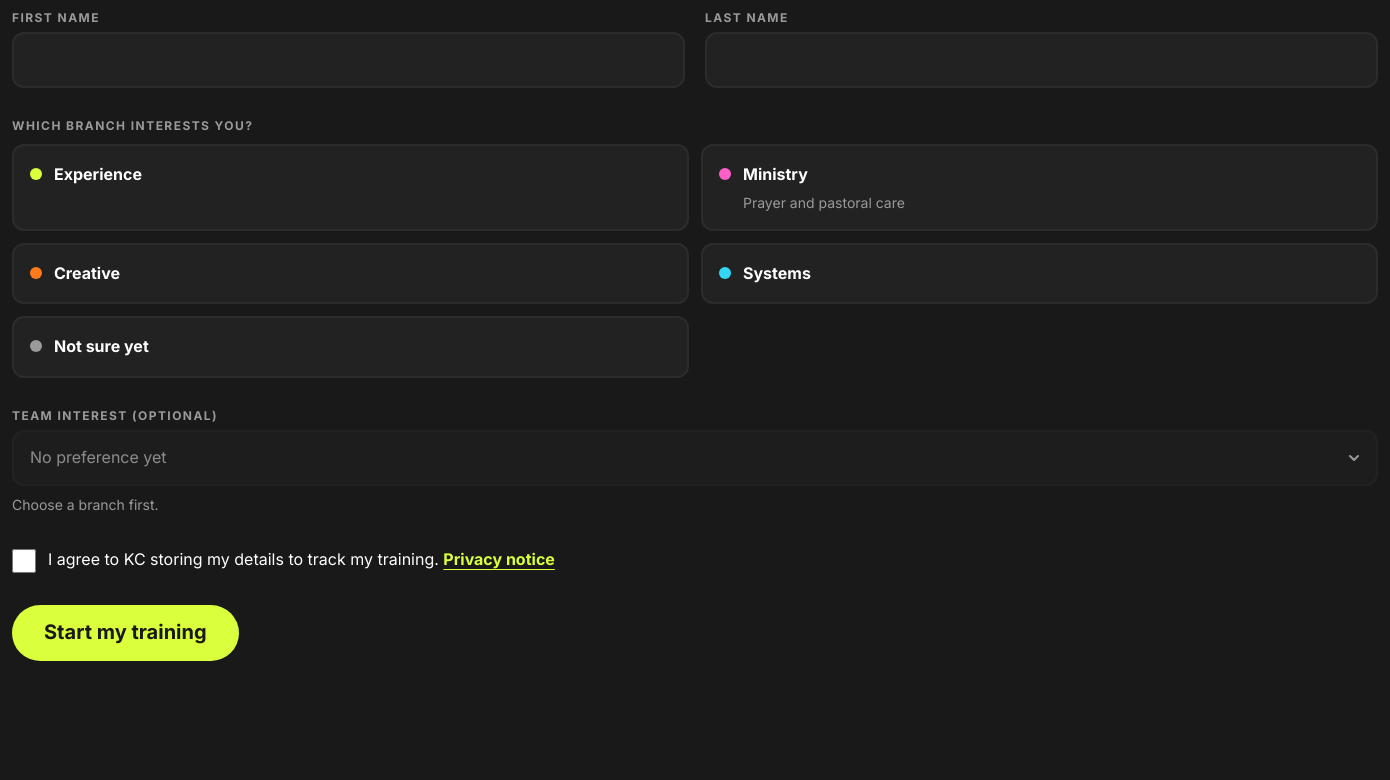
Test: OnboardingForm › lists only active teams for the chosen branch
Click the radio button labelled "Experience". click: (98, 174)
box: [12,144,689,231]
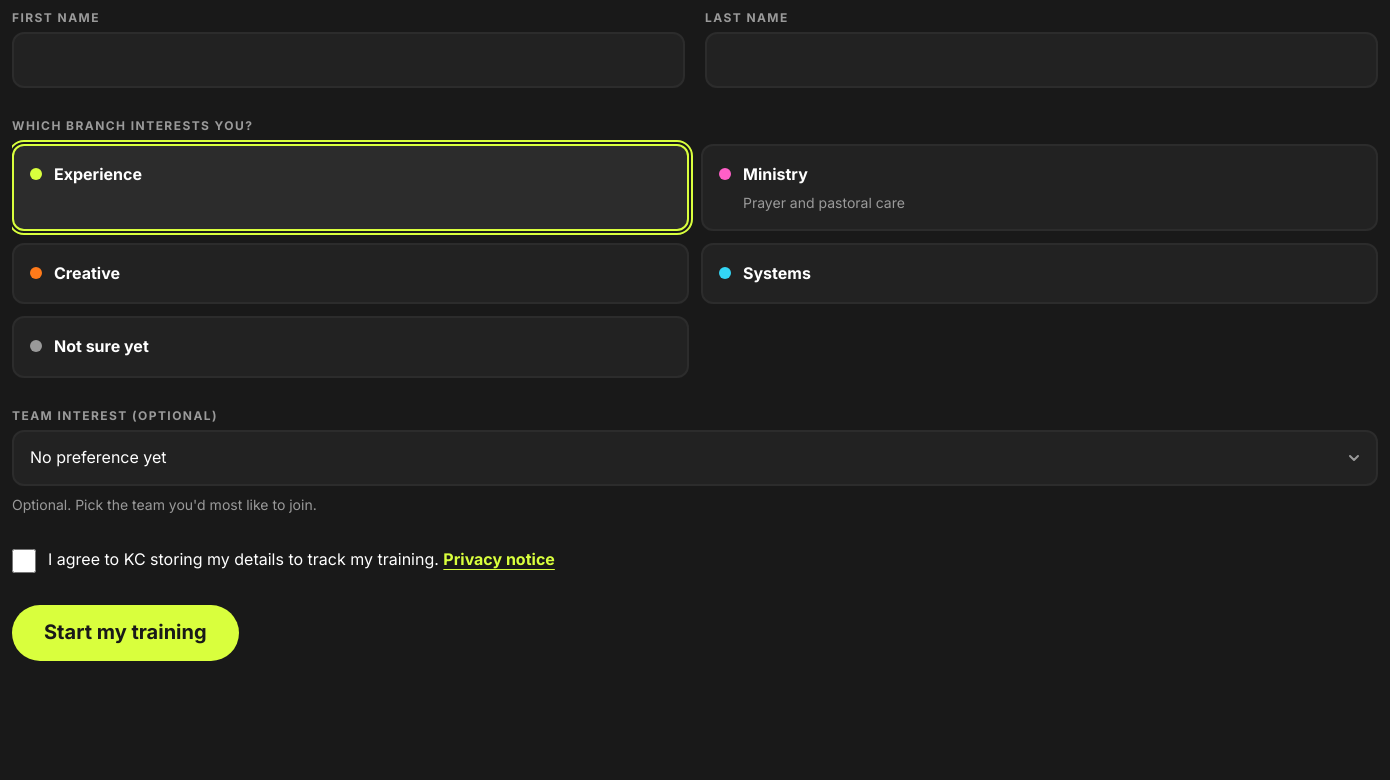
Check: the dropdown labelled "Team interest (optional)" is enabled, box [12,430,1378,486]
Click the radio button labelled "Creative". click: (87, 273)
box: [12,243,689,304]
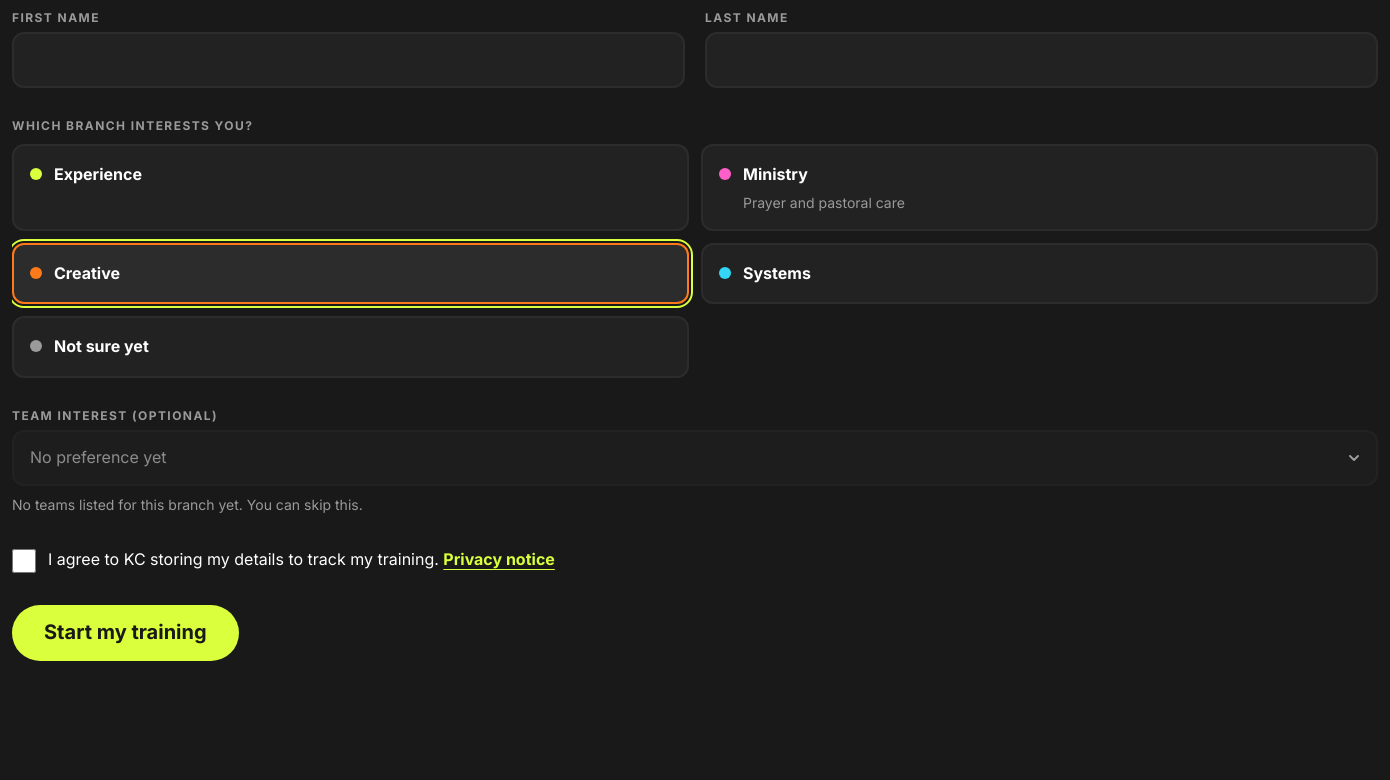
Check: the dropdown labelled "Team interest (optional)" is disabled, box [12,430,1378,486]
Check: the text "No teams listed for this branch yet. You can skip this." is shown, box [12,496,363,513]
